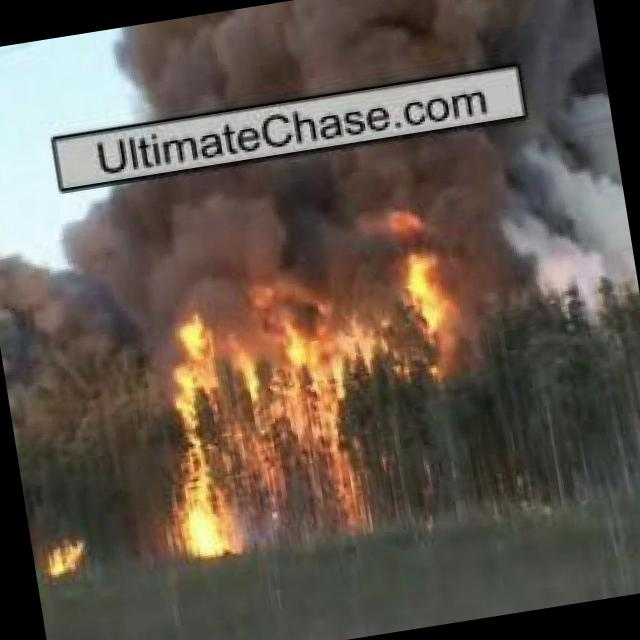Fire: (132, 276, 380, 562), (104, 0, 594, 125), (382, 192, 478, 384), (38, 536, 102, 586)
Smoke: (0, 106, 638, 383)
